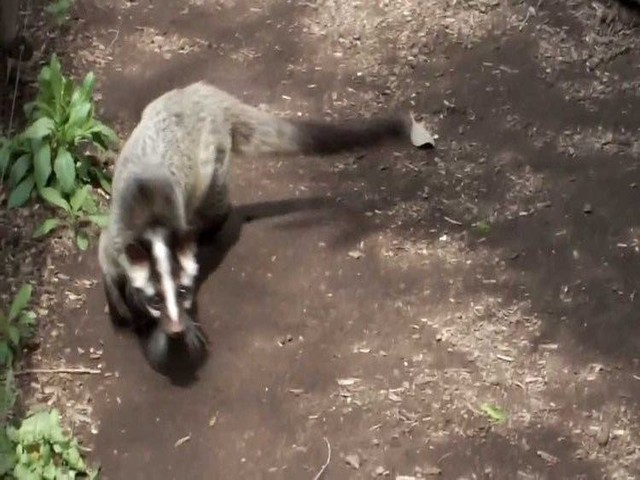civet: (99, 78, 411, 387)
